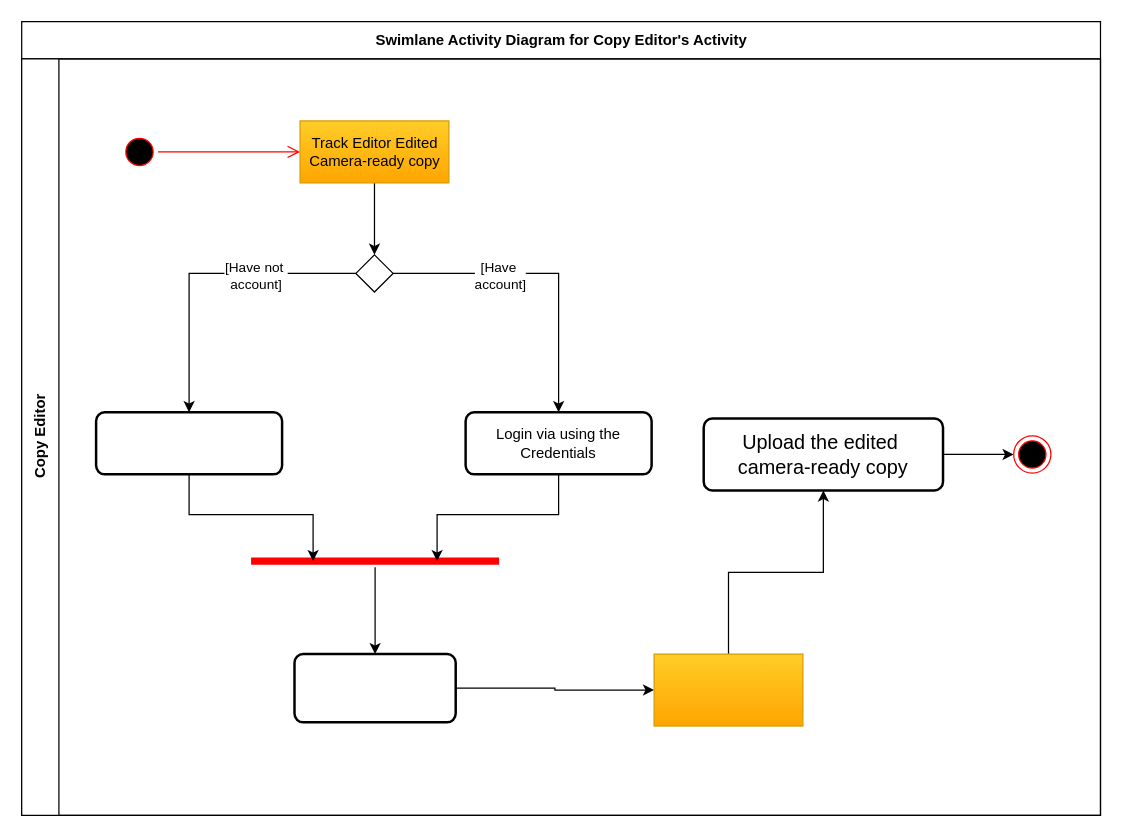
Some shapes in this 1122 by 837 pixel diagram are drawn without their labels. Here are the shapes that lost their labels. From the top down, the centre of each, then its label:
(x=188, y=442): Create reviewer account
(x=374, y=687): Edit the Camera-ready copy
(x=728, y=689): Copy Editor Edited Camera-ready copy
